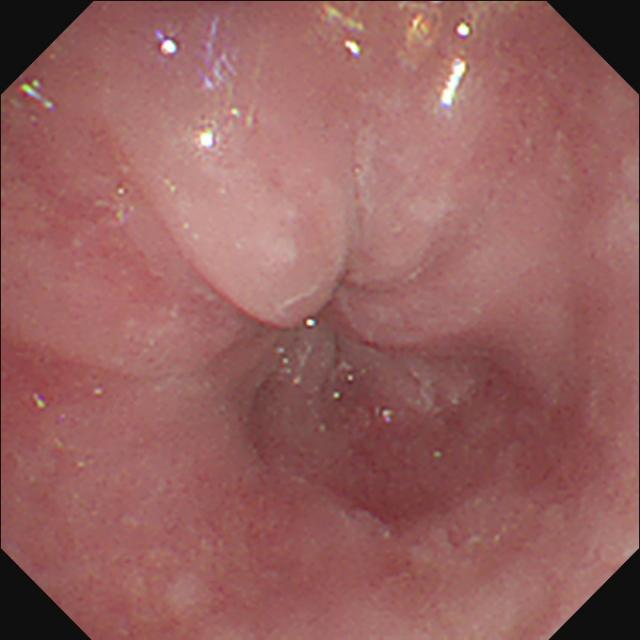I: (205, 221, 449, 447)
U: (438, 57, 470, 110), (158, 33, 182, 59), (196, 125, 219, 150), (455, 17, 476, 38), (343, 38, 364, 59)
